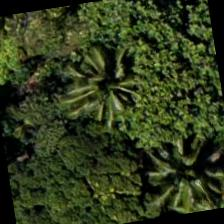Kelapa_Sawit: (53, 43, 156, 146), (135, 118, 223, 219)
